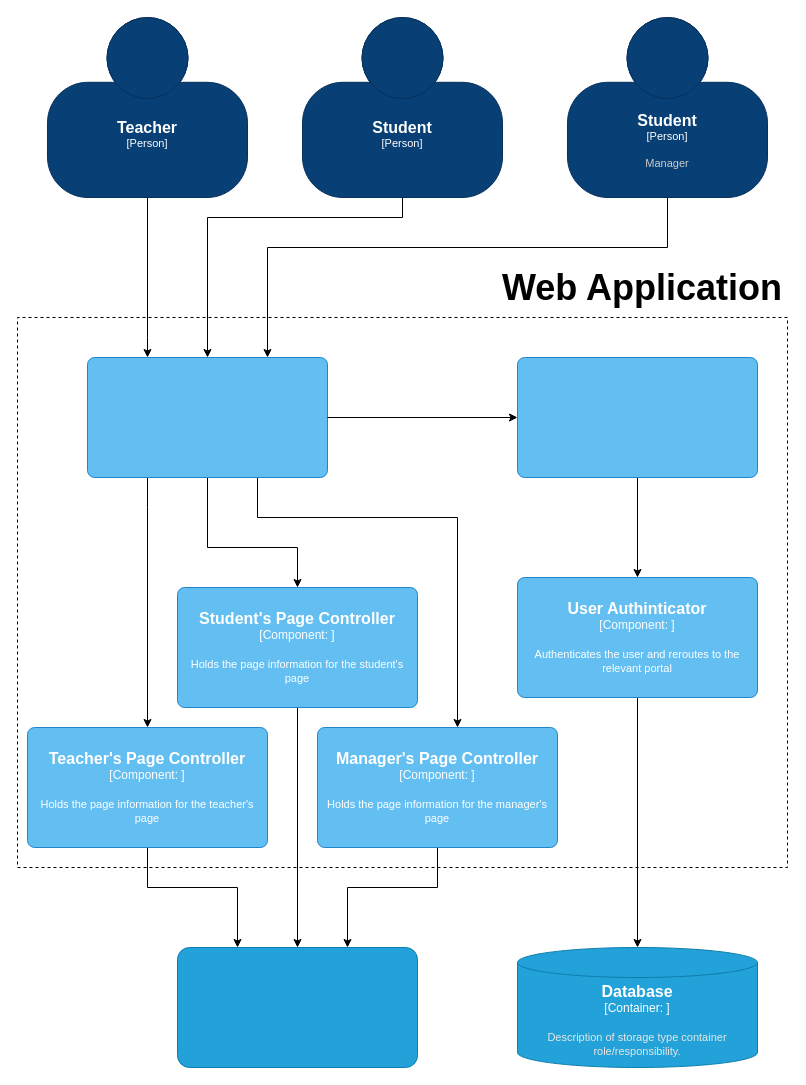
Some shapes in this 806 by 1085 pixel diagram are drawn without their labels. Here are the shapes that lost their labels. From the top down, the centre of each, then its label:
At point 207,417: "Display Controller [Component: ] Handles the display for the user.".
At point 637,417: "Login Controller [Component: ] Lets the user to log into the systems".
At point 297,1007: "API Gateway [Container: ] Centralized Request".
